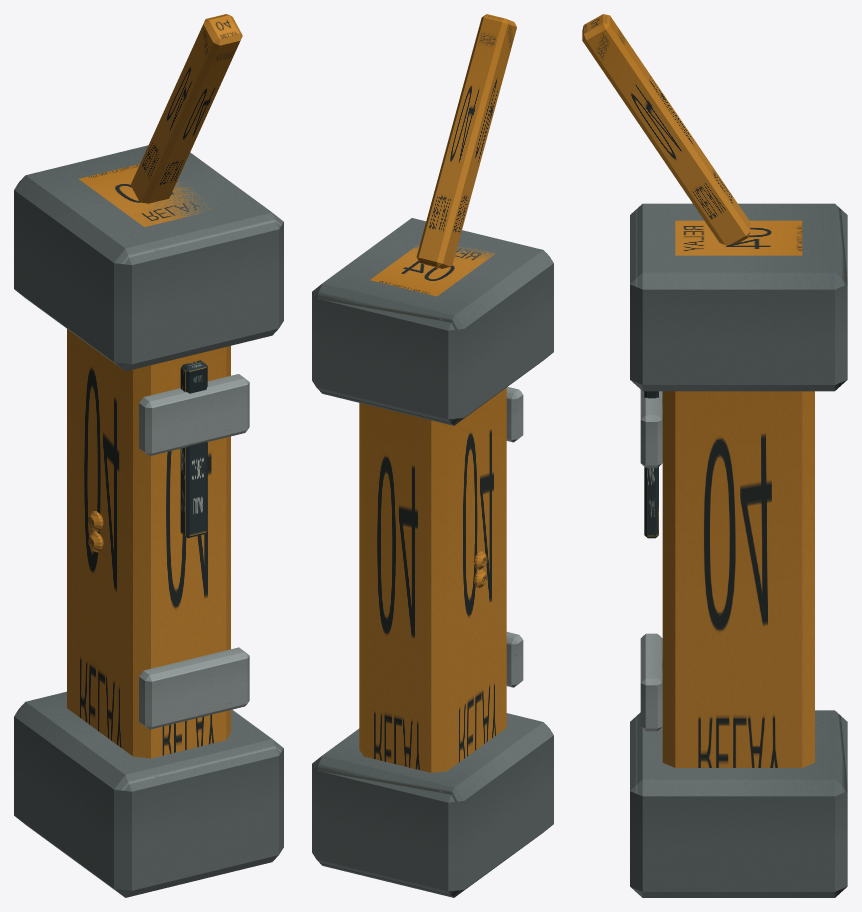
Rendered from column_broken_LOD0.obj.
3 renders of one model, left to right at view 1: azimuth 30°, elevation 25°; view 2: azimuth 150°, elevation 25°; view 3: azimuth 270°, elevation 25°, orthographic. The views are drawn at different scales.
Visible parts, largest first — view 1: L02_column_broken_LOD0; view 2: L02_column_broken_LOD0; view 3: L02_column_broken_LOD0.
Part boxes in pixels (x1,y1,x2,y2): L02_column_broken_LOD0: [14, 14, 283, 897]; L02_column_broken_LOD0: [312, 14, 553, 897]; L02_column_broken_LOD0: [582, 14, 847, 897].
Bounding box in the file's own units: 0.52 × 2.57 × 0.7312.
1 material, 1 textured.
